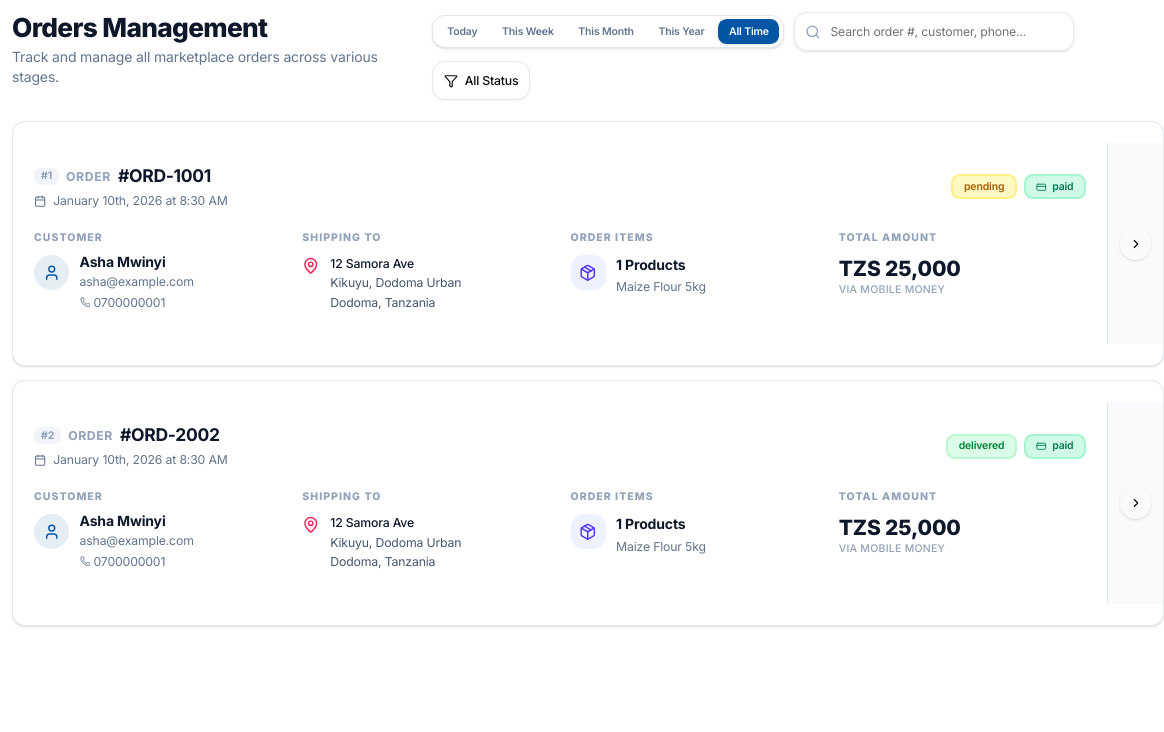
Scenario: OrdersManagementTab › filters by status via the status dropdown
This screenshot has width=1164, height=732.
Click the button "All Status" at (481, 81), box top-left (432, 61), bottom-right (530, 100)
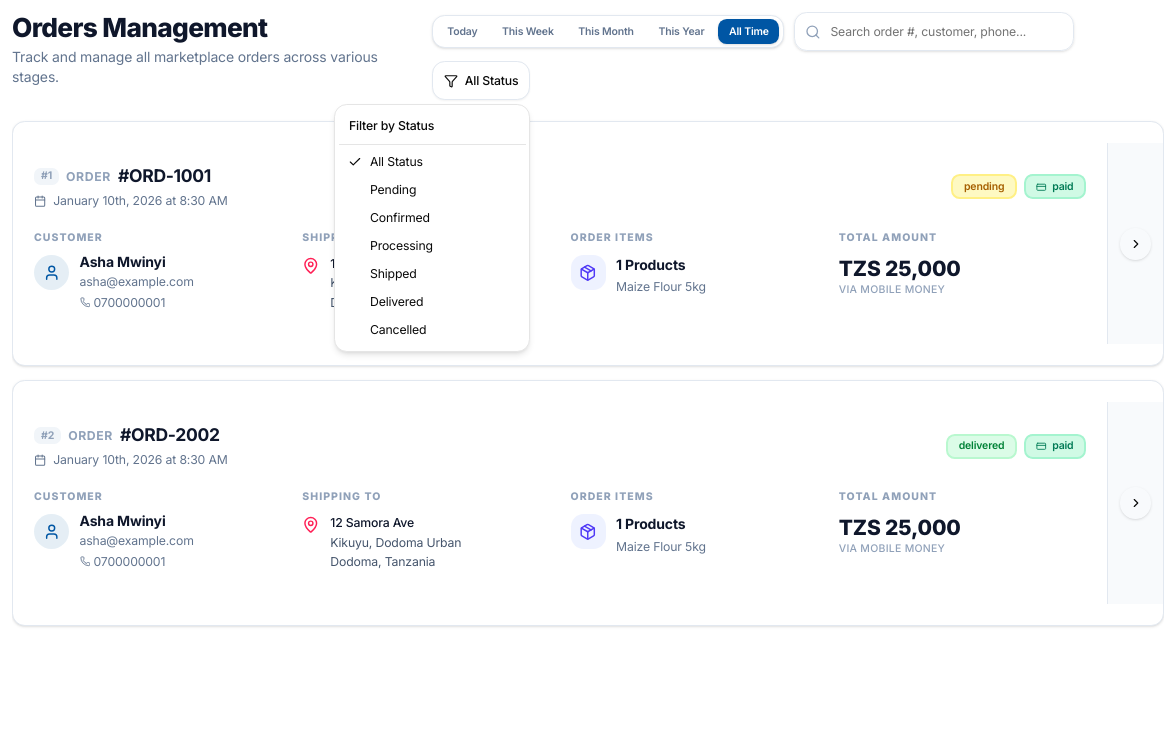
Click the menu item "Delivered" at (397, 302), box top-left (370, 294), bottom-right (423, 309)
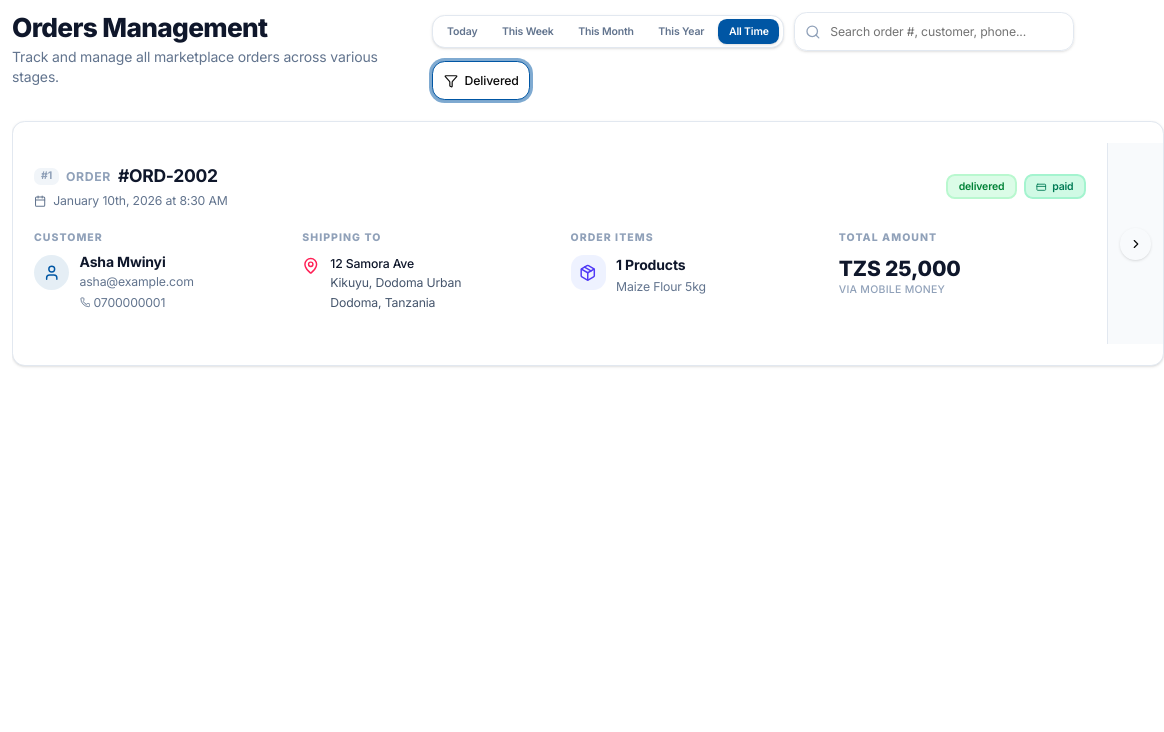
Expected: the heading "#ORD-2002" is shown, top-left (118, 164), bottom-right (218, 189)
Expected: the heading "#ORD-1001" is gone
Expected: the button "Delivered" is shown, top-left (432, 61), bottom-right (530, 100)
